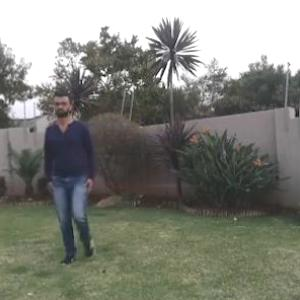follow: (49, 98, 92, 250)
